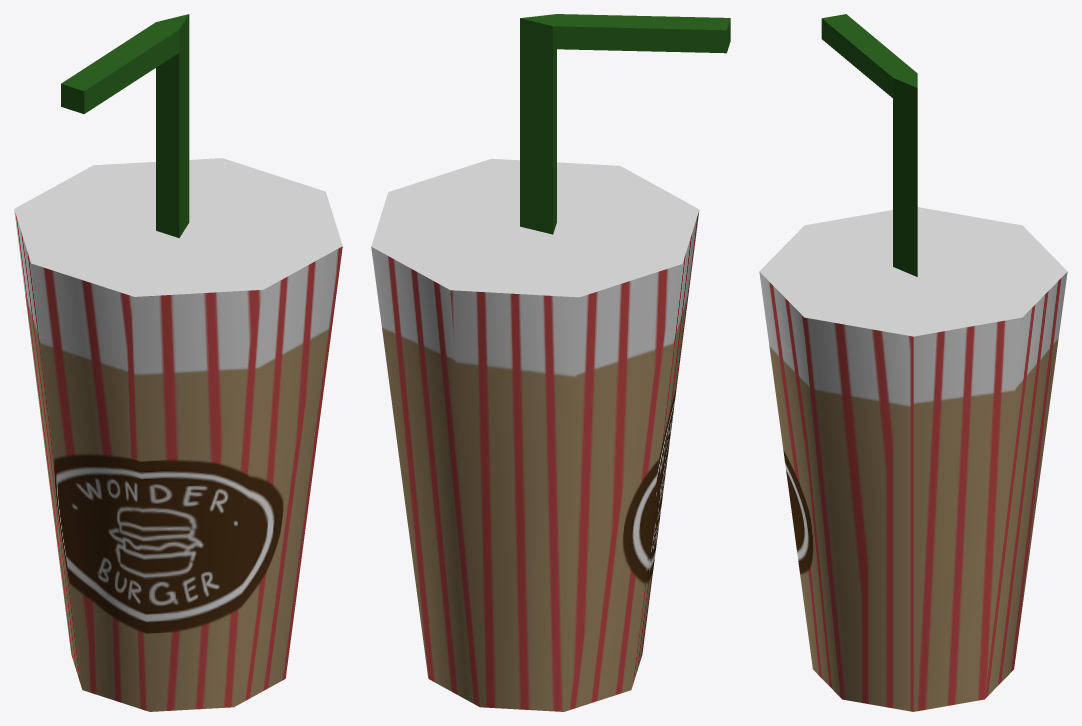
Rendered from juice.fbx.
The picture shows the model from 3 angles, left to right: view 1: azimuth 30°, elevation 25°; view 2: azimuth 150°, elevation 25°; view 3: azimuth 270°, elevation 25°; orthographic projection. The views are drawn at different scales.
Visible parts, largest first — view 1: pCylinder1; view 2: pCylinder1; view 3: pCylinder1.
Boxes of the visible parts, box(x1,y1,x2,y2) form: pCylinder1: box(14, 14, 342, 711); pCylinder1: box(371, 14, 730, 711); pCylinder1: box(759, 14, 1067, 711).
Size of the model in its own units: 2.27 by 4.65 by 2.21.
